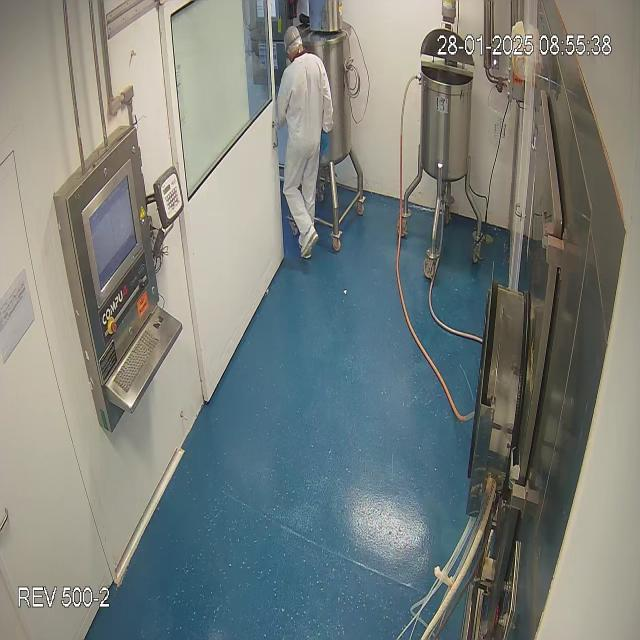bota: (293, 222, 321, 263)
pessoa: (276, 26, 334, 259)
touca: (284, 27, 306, 63)
